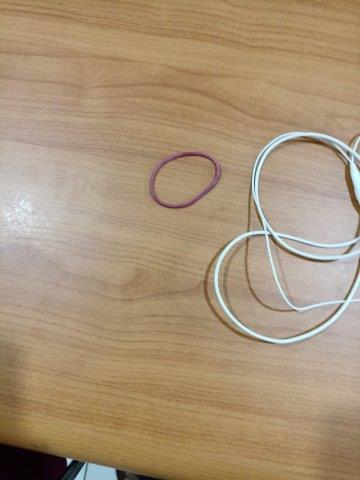karet: (149, 151, 221, 208)
